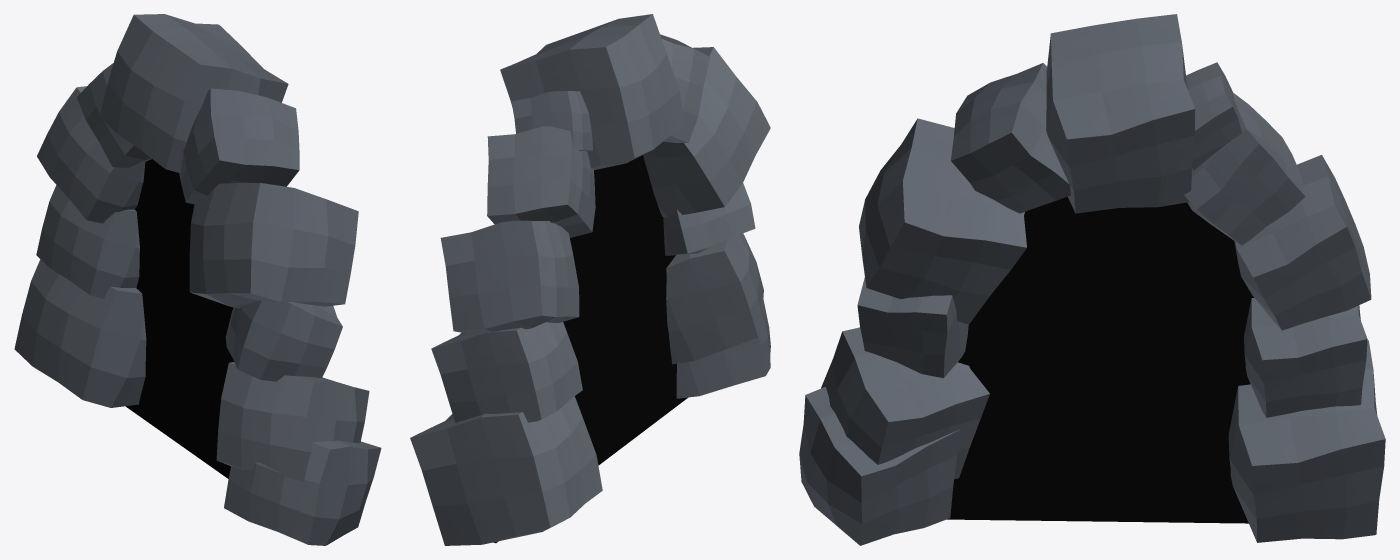
File: SM_CaveEntrance.fbx
3 views of the same model, side by side, from view 1: azimuth 30°, elevation 25°; view 2: azimuth 150°, elevation 25°; view 3: azimuth 270°, elevation 25° (orthographic). The views are drawn at different scales.
Parts seen in each view (by area): view 1: SM_CaveEntrance; view 2: SM_CaveEntrance; view 3: SM_CaveEntrance.
Boxes of the visible parts, x1,y1,x2,y2 form: SM_CaveEntrance: (14,14,381,545); SM_CaveEntrance: (410,14,770,545); SM_CaveEntrance: (799,14,1385,545).
Bounding box in the file's own units: 53.78 × 157 × 171.
